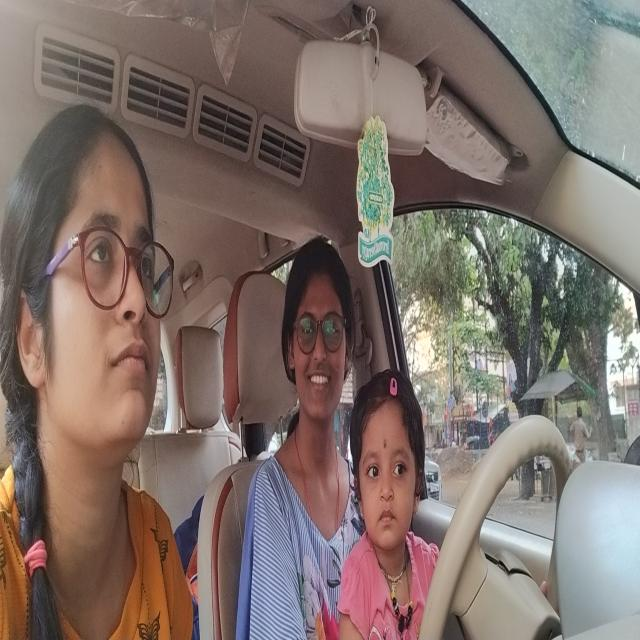child: (351, 362, 428, 559)
person: (1, 91, 174, 482), (283, 218, 354, 426)
